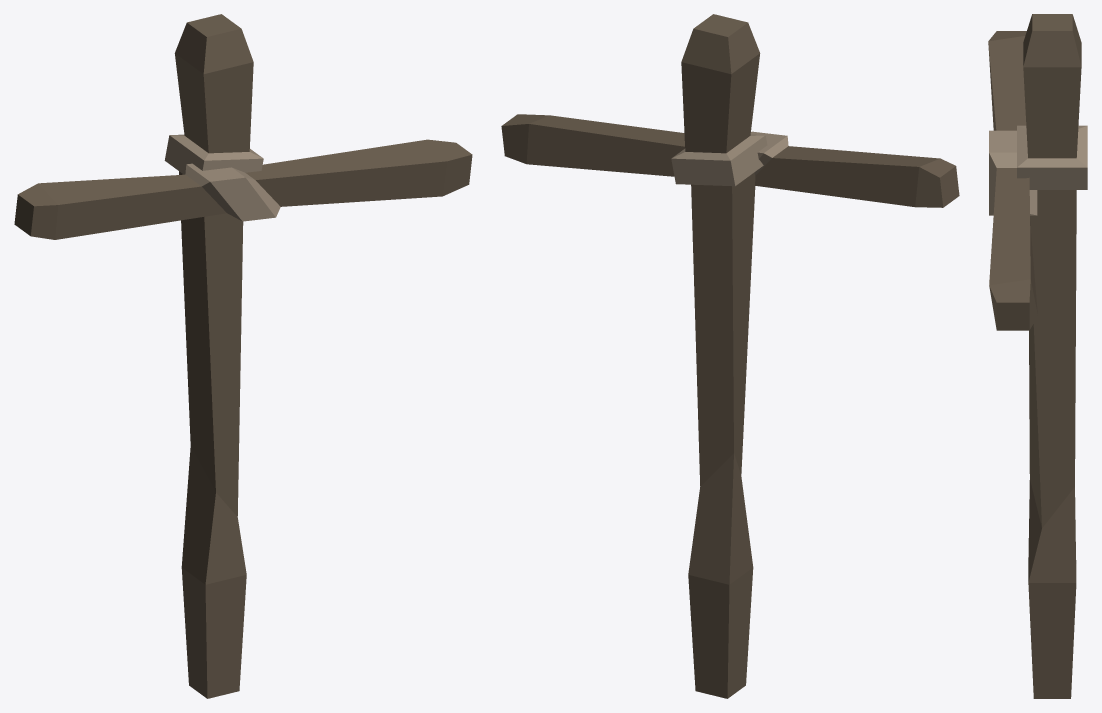
Rendered from SM_Prop_Grave_01.fbx.
3 views of the same model, side by side, from view 1: azimuth 30°, elevation 25°; view 2: azimuth 150°, elevation 25°; view 3: azimuth 270°, elevation 25° (orthographic).
Parts seen in each view (by area): view 1: SM_Prop_Grave_01; view 2: SM_Prop_Grave_01; view 3: SM_Prop_Grave_01.
Part boxes in pixels (bbox=[...]): SM_Prop_Grave_01: bbox=[14, 14, 472, 698]; SM_Prop_Grave_01: bbox=[501, 14, 959, 698]; SM_Prop_Grave_01: bbox=[988, 14, 1087, 698].
Bounding box in the file's own units: 0.7466 × 1.07 × 0.1443.
